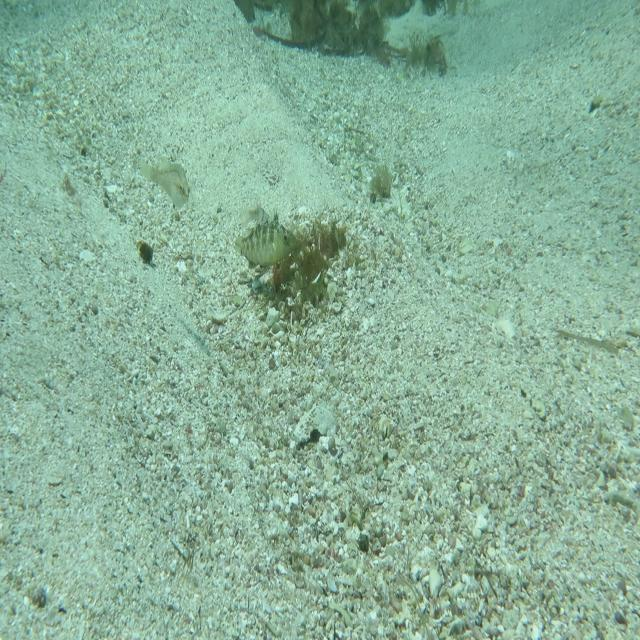BEND_OPP: (231, 204, 302, 269)
female: (237, 195, 276, 272)
nest: (263, 205, 367, 319)
other_fish: (135, 146, 201, 218)
